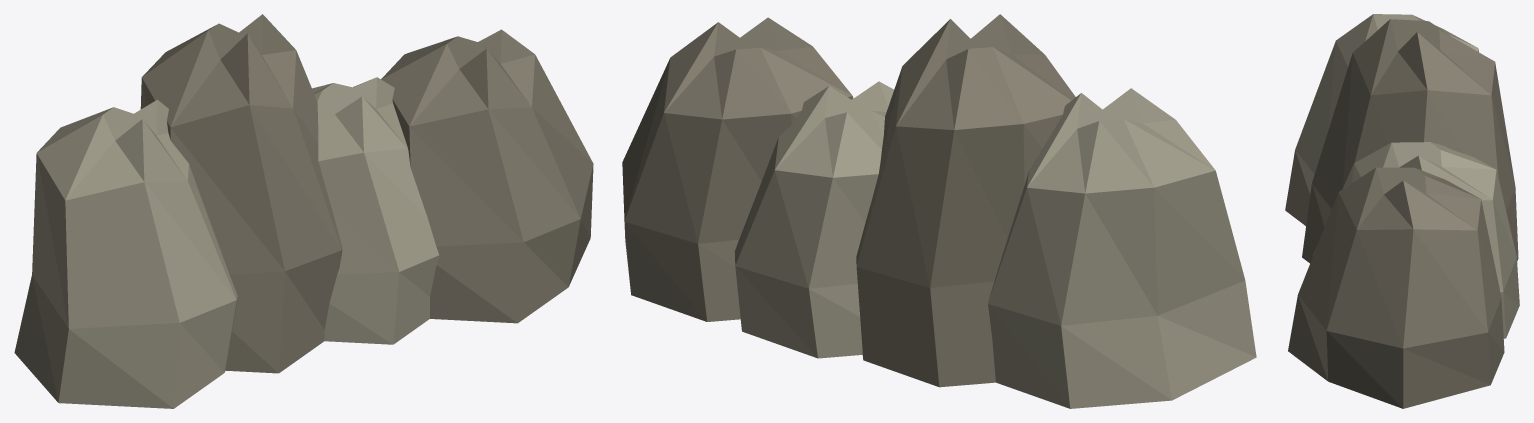
The model's file is mountain-ridge.glb.
The picture shows the model from 3 angles, left to right: view 1: azimuth 30°, elevation 25°; view 2: azimuth 150°, elevation 25°; view 3: azimuth 270°, elevation 25°; orthographic projection. The views are drawn at different scales.
Visible parts, largest first — view 1: mountain-ridge; view 2: mountain-ridge; view 3: mountain-ridge.
Part boxes in pixels (x1,y1,x2,y2): mountain-ridge: [14, 14, 593, 408]; mountain-ridge: [622, 14, 1256, 408]; mountain-ridge: [1285, 14, 1519, 408].
Size of the model in its own units: 7.43 by 3.69 by 3.17.
